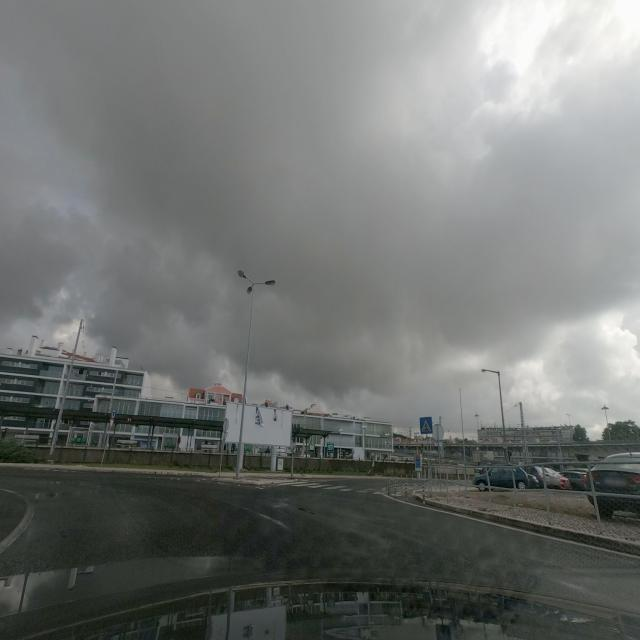car: (587, 451, 640, 522), (473, 465, 542, 490), (537, 466, 571, 489), (561, 468, 593, 490), (519, 464, 546, 488)
